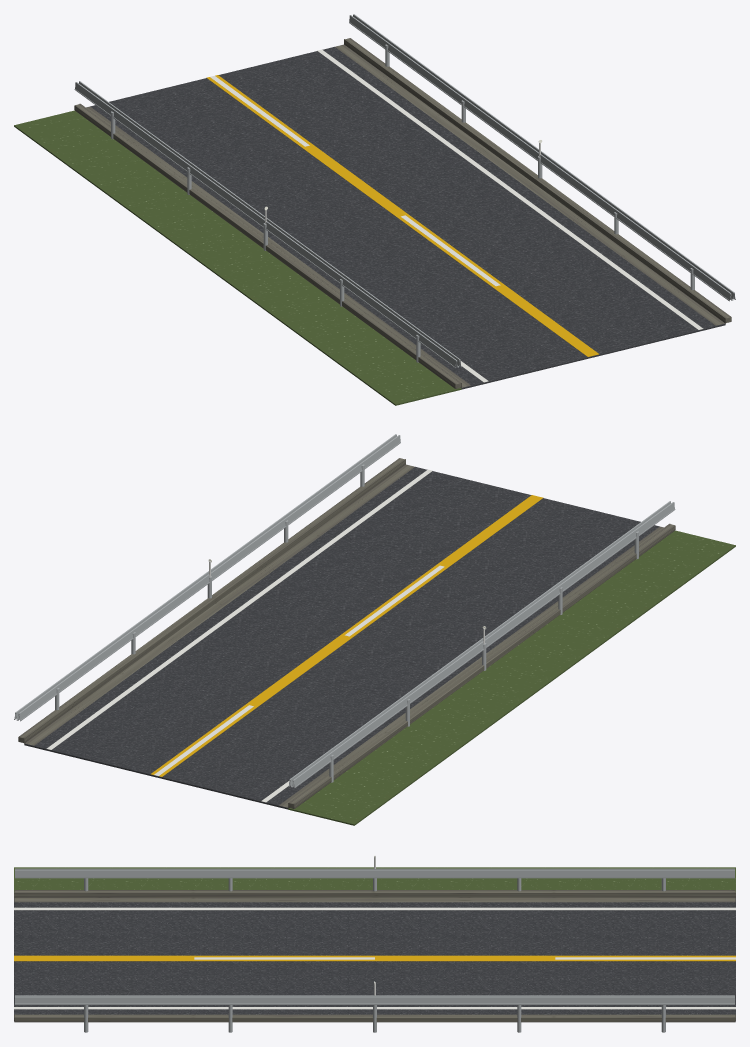
The picture shows the model from 3 angles, top to bottom: view 1: azimuth 30°, elevation 25°; view 2: azimuth 150°, elevation 25°; view 3: azimuth 270°, elevation 25°; orthographic projection. The views are drawn at different scales.
Visible parts, largest first — view 1: jp-roadway-national, opt_side_curb, opt_side_guard, opt_center_double, opt_center_dash, opt_center_yellow; view 2: jp-roadway-national, opt_side_curb, opt_side_guard, opt_center_double, opt_center_dash, opt_center_yellow; view 3: jp-roadway-national, opt_side_guard, opt_side_curb, opt_center_double, opt_center_dash, opt_center_yellow.
Part boxes in pixels (x1,y1,x2,y2): jp-roadway-national: (14, 46, 725, 405); opt_side_curb: (74, 38, 731, 388); opt_side_guard: (74, 14, 735, 368); opt_center_double: (206, 75, 598, 356); opt_center_dash: (210, 75, 500, 286); opt_center_yellow: (305, 146, 594, 356); jp-roadway-national: (24, 466, 735, 825); opt_side_curb: (18, 458, 675, 808); opt_side_guard: (14, 434, 675, 788); opt_center_double: (151, 495, 543, 776); opt_center_dash: (154, 565, 444, 776); opt_center_yellow: (155, 495, 539, 775); jp-roadway-national: (14, 867, 735, 1020); opt_side_guard: (15, 854, 734, 1032); opt_side_curb: (14, 890, 735, 1022); opt_center_double: (14, 955, 735, 961); opt_center_dash: (194, 957, 735, 959); opt_center_yellow: (14, 957, 555, 959).
Size of the model in its own units: 10.32 by 1.55 by 20.
Materials: 8 (3 with a texture image).
